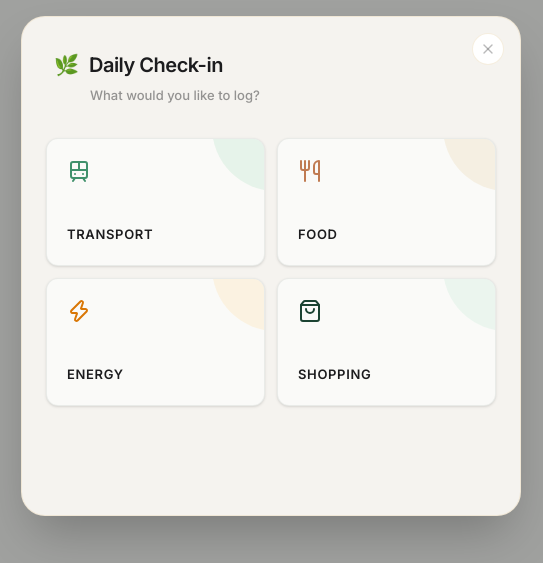
Test: LogModal › allows selecting a category from the "all" chooser
This screenshot has width=543, height=563.
// Click on 'Food' category
Click the button "Food" at (386, 202), box [277, 138, 496, 266]
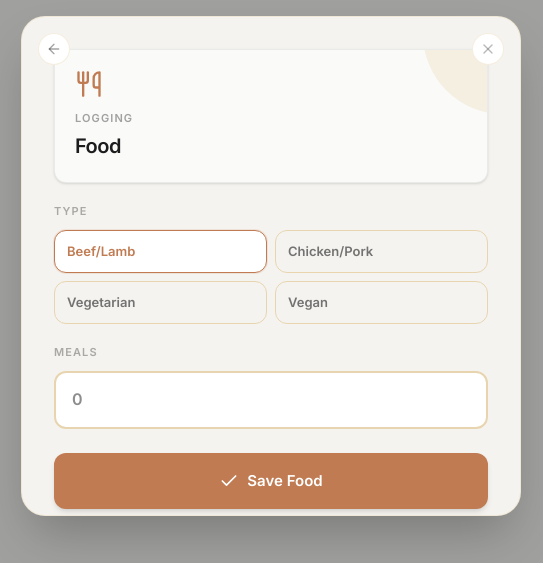
Now the button "Beef/Lamb" is shown, box [54, 230, 267, 273]
